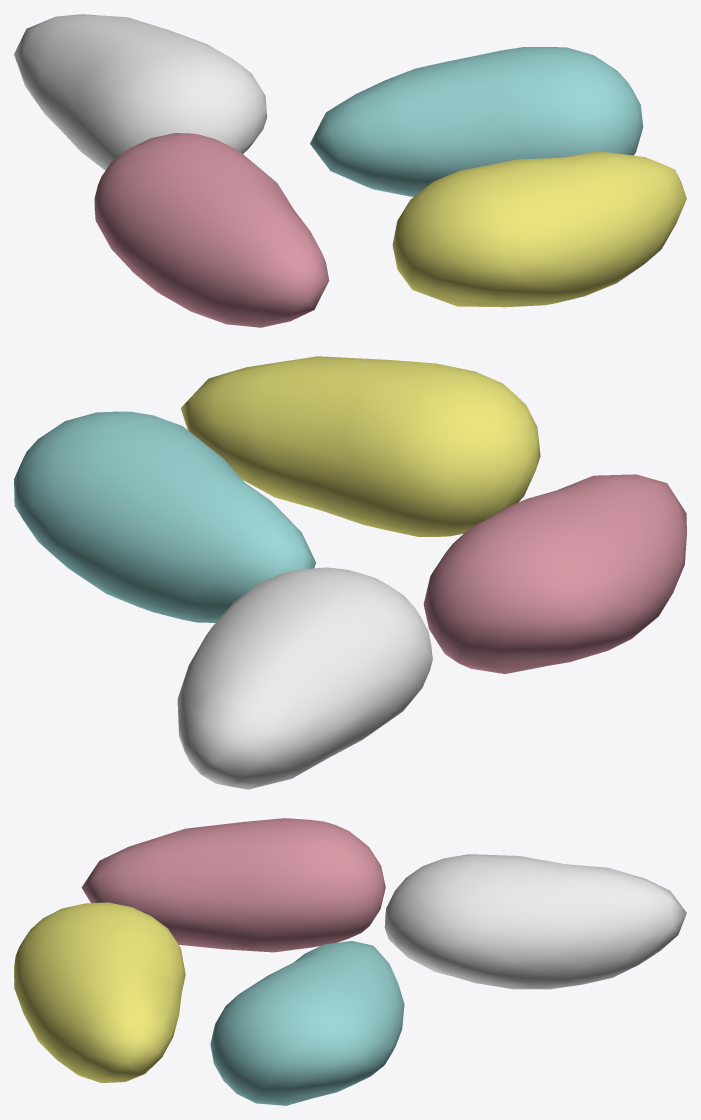
The model's file is rocher amande.fbx.
3 renders of one model, top to bottom at view 1: azimuth 30°, elevation 25°; view 2: azimuth 150°, elevation 25°; view 3: azimuth 270°, elevation 25°, orthographic. The views are drawn at different scales.
Parts seen in each view (by area): view 1: Icosphere.002, Icosphere.001, Icosphere, Icosphere.003; view 2: Icosphere.002, Icosphere.001, Icosphere.003, Icosphere; view 3: Icosphere.003, Icosphere, Icosphere.002, Icosphere.001.
Boxes of the visible parts, x1,y1,x2,y2 form: Icosphere.002: (392,151,686,307); Icosphere.001: (310,47,643,196); Icosphere: (94,133,329,327); Icosphere.003: (14,14,266,170); Icosphere.002: (181,356,540,536); Icosphere.001: (14,411,315,622); Icosphere.003: (177,567,432,789); Icosphere: (423,474,686,673); Icosphere.003: (384,854,686,989); Icosphere: (81,818,385,952); Icosphere.002: (14,902,185,1082); Icosphere.001: (210,941,404,1105).
Bounding box in the file's own units: 622 × 149 × 767.
